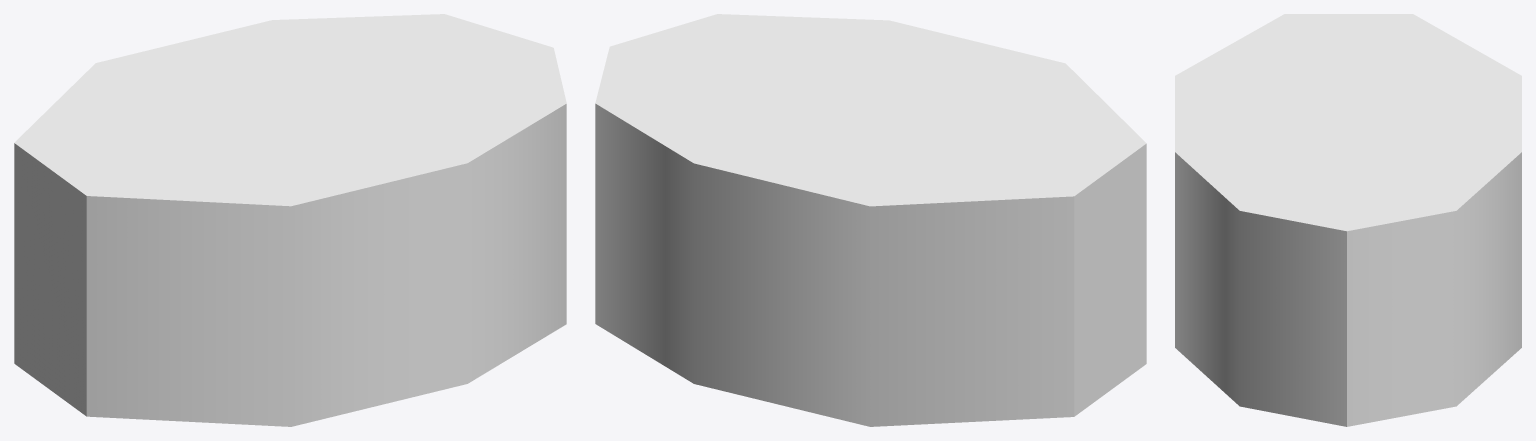
Rendered from spaceShipHitTest_080516.dae.
The picture shows the model from 3 angles, left to right: view 1: azimuth 30°, elevation 25°; view 2: azimuth 150°, elevation 25°; view 3: azimuth 270°, elevation 25°; orthographic projection. The views are drawn at different scales.
Visible parts, largest first — view 1: legHitTest1; view 2: legHitTest1; view 3: legHitTest1.
Part boxes in pixels (x1,y1,x2,y2): legHitTest1: (14, 14, 566, 426); legHitTest1: (595, 14, 1146, 426); legHitTest1: (1175, 14, 1521, 426).
Size of the model in its own units: 8.53 by 3.58 by 5.75.
1 material, 1 textured.
